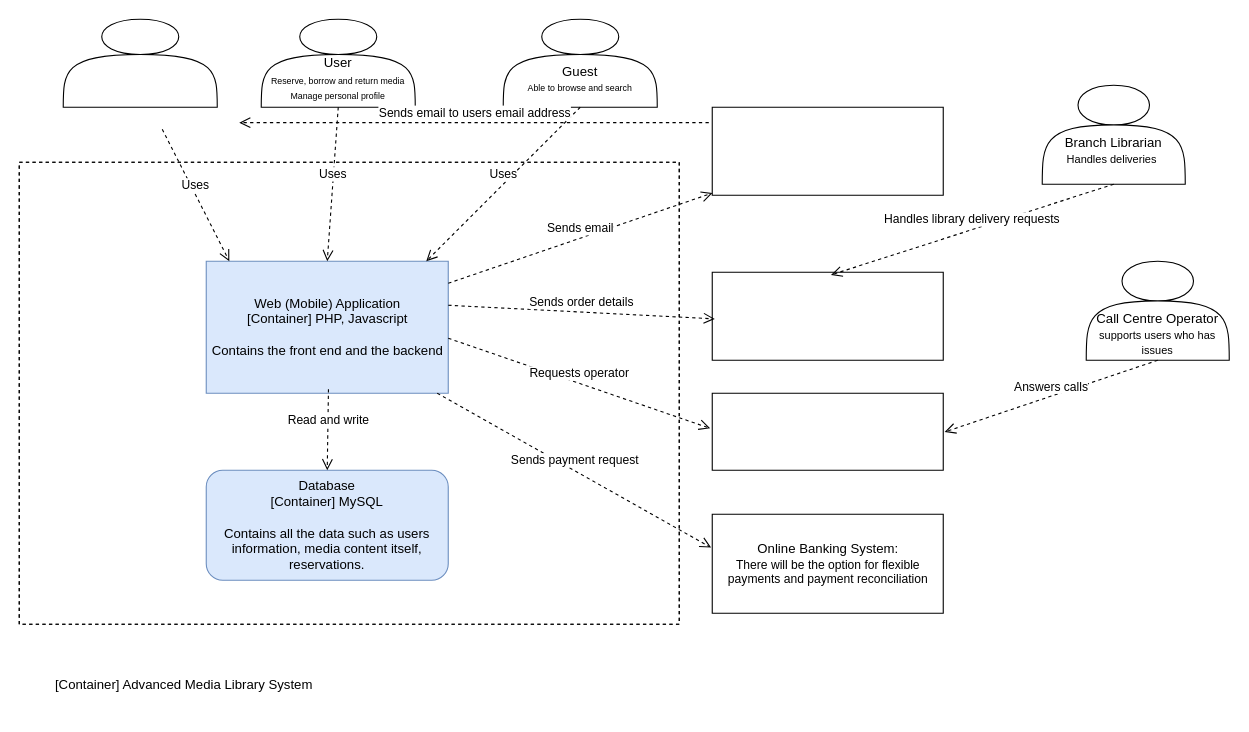
Some shapes in this 1249 by 732 pixel diagram are drawn without their labels. The centre of each missing label's shape, as x and y in pixels:
"Admin Manage media inventory monitor media usage approve media transfers" belongs at (139,62).
"Delivery System For the delivering of Media" belongs at (827,315).
"Email System For sending notifications for media availability and such" belongs at (827,150).
"Telephone System. For talking to someone for assistance in the AML" belongs at (827,431).
